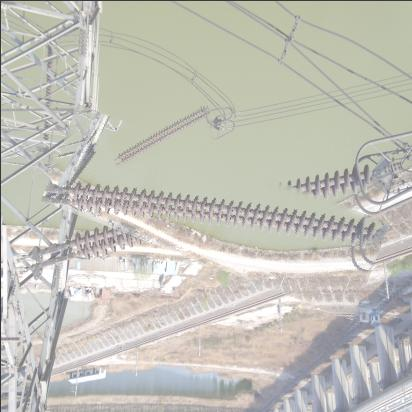insulator: (44, 132, 386, 292), (109, 112, 217, 162)
